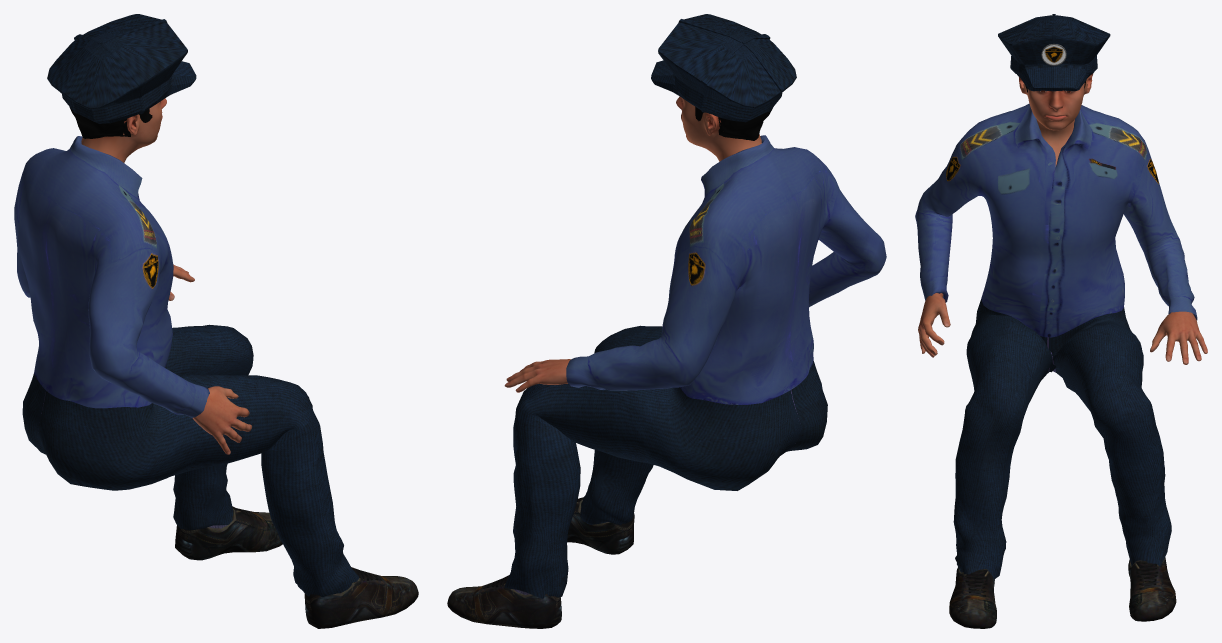
File: security_v1.fbx
3 renders of one model, left to right at view 1: azimuth 30°, elevation 25°; view 2: azimuth 150°, elevation 25°; view 3: azimuth 270°, elevation 25°, orthographic. The views are drawn at different scales.
Parts seen in each view (by area): view 1: dress, cap, Shoes, Body1, hair; view 2: dress, cap, Shoes, Body1, hair; view 3: dress, cap, Body1, Shoes, Logo1.
Boxes of the visible parts, x1,y1,x2,y2 form: dress: [14, 136, 359, 597]; cap: [47, 14, 196, 123]; Shoes: [175, 506, 418, 628]; Body1: [81, 98, 251, 454]; hair: [69, 107, 152, 138]; dress: [504, 135, 886, 598]; cap: [651, 14, 796, 122]; Shoes: [447, 497, 634, 628]; Body1: [504, 96, 761, 392]; hair: [695, 107, 772, 140]; dress: [915, 103, 1197, 579]; cap: [998, 14, 1110, 91]; Body1: [918, 73, 1207, 364]; Shoes: [949, 557, 1176, 628]; Logo1: [1041, 44, 1066, 65].
Bounding box in the file's own units: 9.77 × 16.34 × 8.37.
10 materials, 8 textured.
